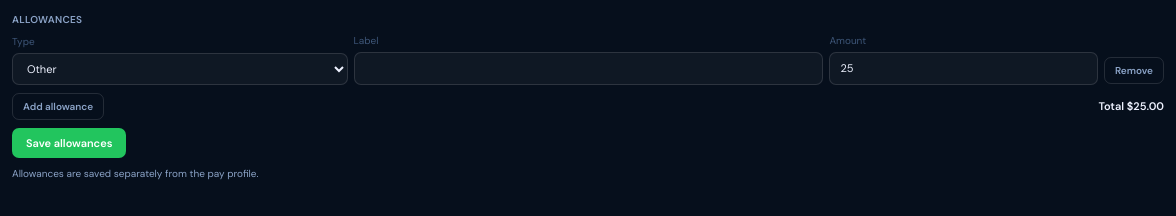
Test: ProfileAllowancesEditor › blocks Other with an empty label and does not PUT
The image size is (1176, 216).
Click the button "Save allowances".
click(69, 143)  # box 12,128 -> 126,158
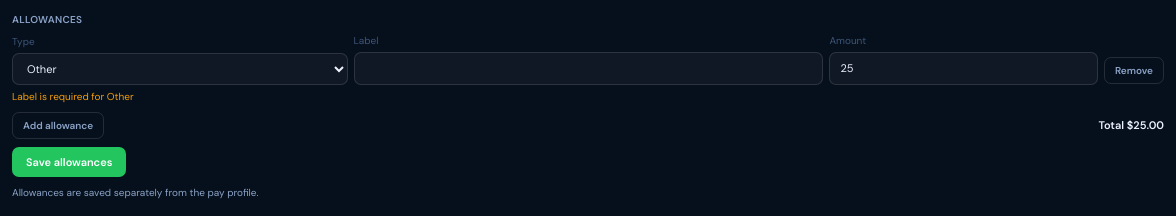
Check: the text "Label is required for Other" is shown, box 12,90 -> 134,102
